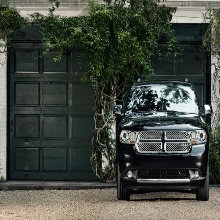no damage: (116, 78, 213, 201)
